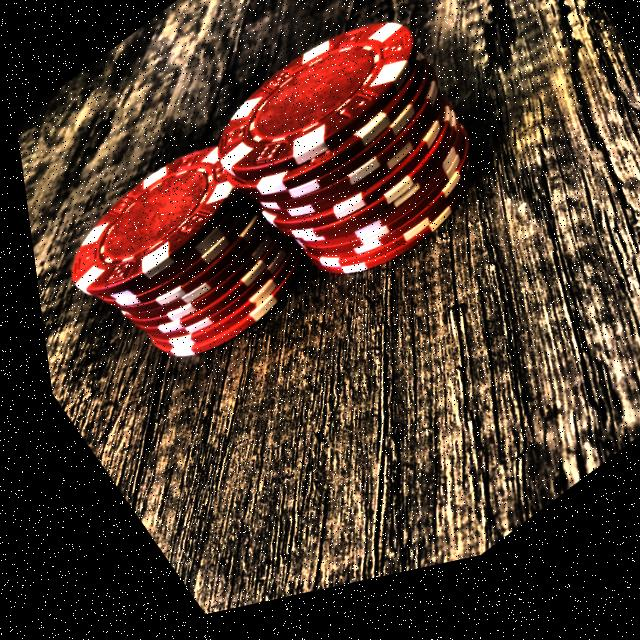Chip: (164, 0, 536, 366), (16, 96, 324, 432)
